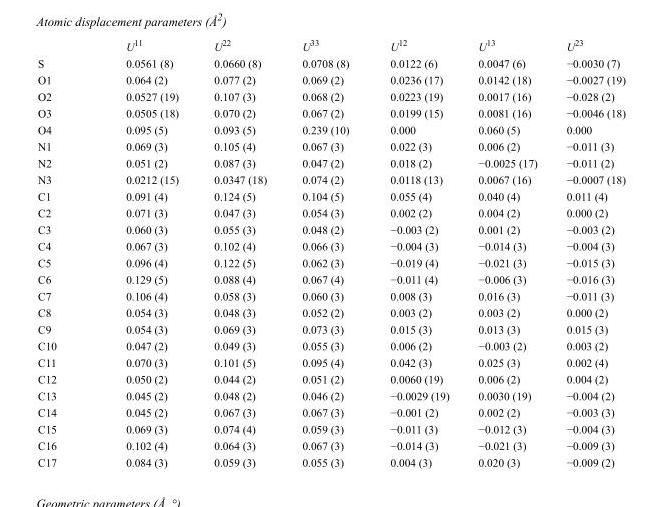table: (37, 37, 624, 468)
table column: (90, 37, 195, 468), (369, 37, 463, 468), (195, 37, 283, 468), (463, 37, 551, 468), (283, 37, 369, 468), (551, 37, 624, 468), (37, 37, 90, 468)
table column header: (37, 37, 624, 54)
table row: (37, 37, 624, 54), (37, 54, 624, 71), (37, 87, 624, 104), (37, 104, 624, 121), (37, 137, 624, 154), (37, 170, 624, 187), (37, 187, 624, 204), (37, 220, 624, 237), (37, 237, 624, 254), (37, 270, 624, 287), (37, 303, 624, 320), (37, 320, 624, 337), (37, 353, 624, 370), (37, 370, 624, 387), (37, 403, 624, 420), (37, 436, 624, 453), (37, 71, 624, 87), (37, 121, 624, 137), (37, 154, 624, 170), (37, 204, 624, 220), (37, 254, 624, 270), (37, 287, 624, 303), (37, 337, 624, 353), (37, 387, 624, 403), (37, 420, 624, 436), (37, 453, 624, 468)
